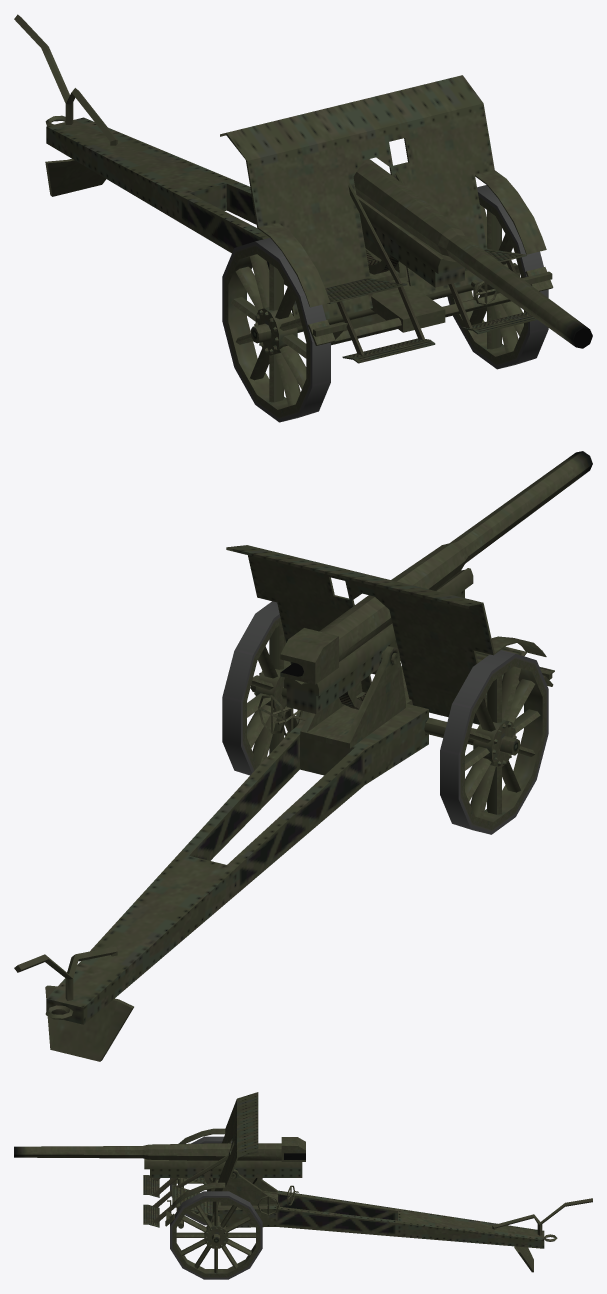
The model's file is ITACannone105_32.dae.
3 views of the same model, one above another, from view 1: azimuth 30°, elevation 25°; view 2: azimuth 150°, elevation 25°; view 3: azimuth 270°, elevation 25° (orthographic). The views are drawn at different scales.
Parts seen in each view (by area): view 1: carriage, wheels, barrel, sleeve, turret; view 2: carriage, wheels, barrel, turret, sleeve; view 3: carriage, wheels, barrel, sleeve, turret.
Boxes of the visible parts, x1,y1,x2,y2 form: carriage: [14, 14, 553, 363]; wheels: [222, 185, 548, 422]; barrel: [353, 159, 592, 348]; sleeve: [356, 195, 464, 287]; turret: [363, 235, 405, 280]; carriage: [14, 545, 554, 1061]; wheels: [222, 601, 548, 834]; barrel: [280, 451, 592, 684]; turret: [258, 646, 405, 748]; sleeve: [284, 568, 473, 713]; carriage: [143, 1092, 592, 1272]; wheels: [170, 1136, 262, 1279]; barrel: [14, 1137, 305, 1161]; sleeve: [144, 1159, 302, 1191]; turret: [220, 1169, 298, 1215].
Bounding box in the file's own units: 17.74 × 66.47 × 18.33.
